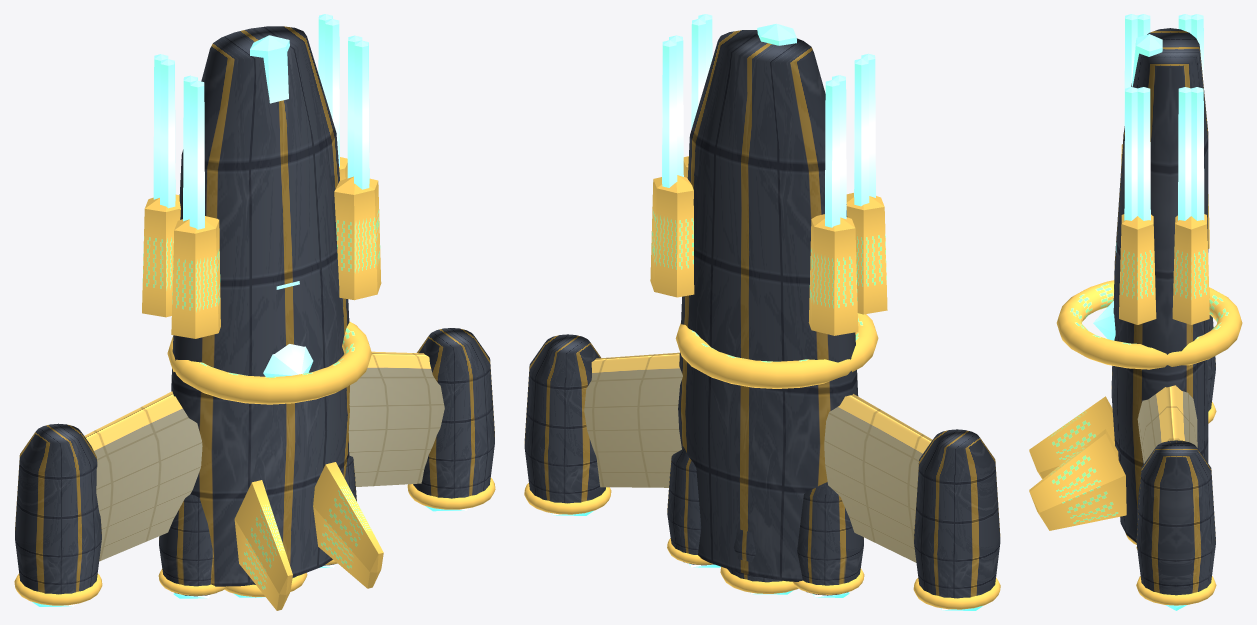
File: ship_s2_zion_breaker.glb
3 views of the same model, side by side, from view 1: azimuth 30°, elevation 25°; view 2: azimuth 150°, elevation 25°; view 3: azimuth 270°, elevation 25° (orthographic). The views are drawn at different scales.
Visible parts, largest first — view 1: ship_s2_zion_breaker; view 2: ship_s2_zion_breaker; view 3: ship_s2_zion_breaker.
Boxes of the visible parts, left/top/right/bottom form: ship_s2_zion_breaker: left=14, top=14, right=495, bottom=610; ship_s2_zion_breaker: left=524, top=14, right=1000, bottom=610; ship_s2_zion_breaker: left=1029, top=14, right=1242, bottom=610.
Bounding box in the file's own units: 3.31 × 3.83 × 1.43.
Materials: 4 (4 with a texture image).
